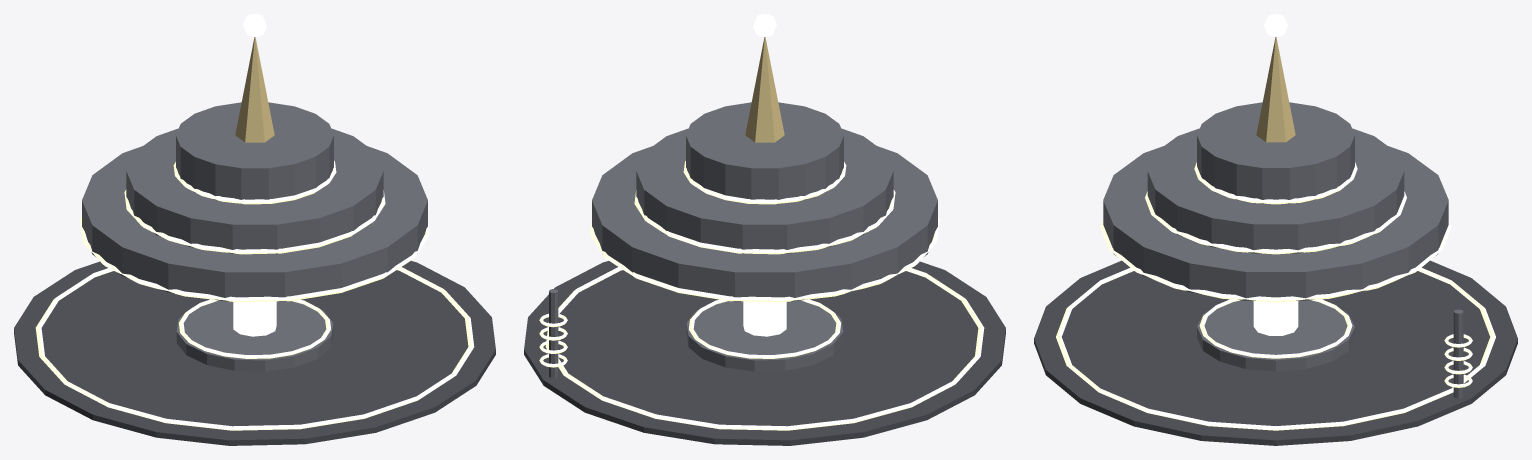
Rendered from zone_low_2_t4.glb.
3 views of the same model, side by side, from view 1: azimuth 30°, elevation 25°; view 2: azimuth 150°, elevation 25°; view 3: azimuth 270°, elevation 25° (orthographic).
Parts seen in each view (by area): view 1: zone_low_2_t4, detail; view 2: zone_low_2_t4, detail; view 3: zone_low_2_t4, detail.
Part boxes in pixels (x1=…): zone_low_2_t4: x1=14, y1=37, x2=495, y2=445; detail: x1=35, y1=14, x2=474, y2=430; zone_low_2_t4: x1=524, y1=37, x2=1005, y2=445; detail: x1=539, y1=14, x2=984, y2=430; zone_low_2_t4: x1=1034, y1=37, x2=1517, y2=445; detail: x1=1056, y1=14, x2=1495, y2=430.
Bounding box in the file's own units: 19.6 × 14.72 × 19.6.
